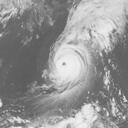cyclone: (48, 44, 91, 87)
